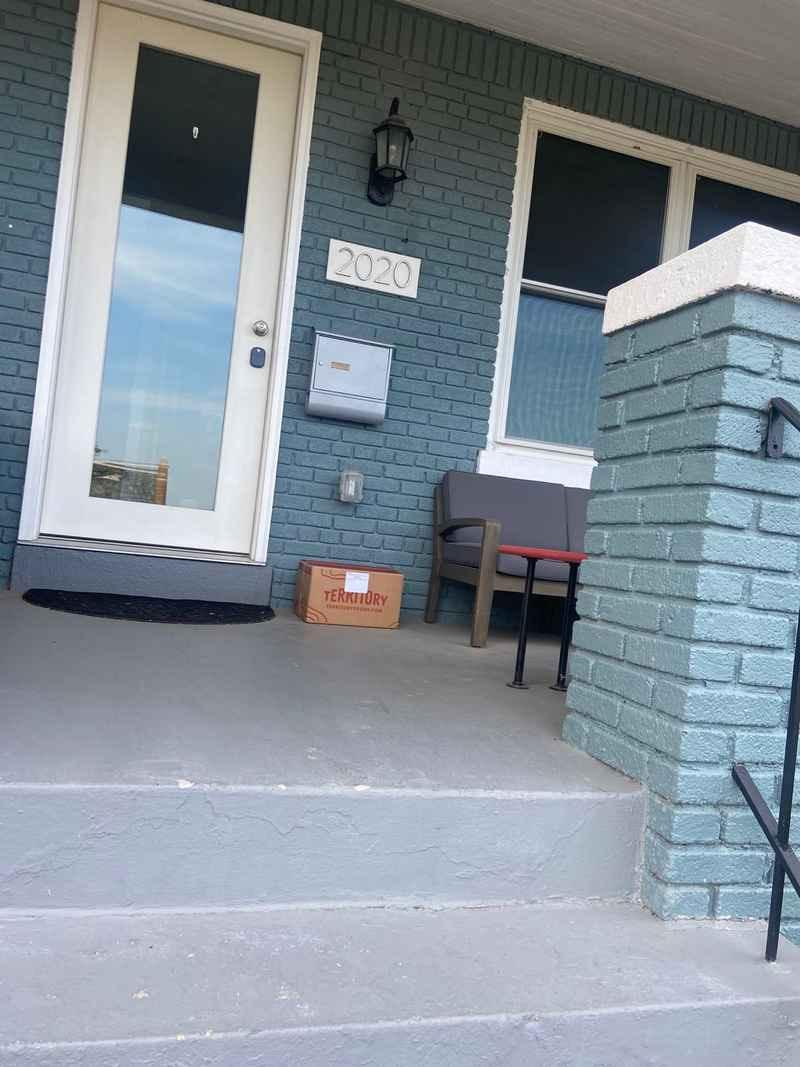package: (286, 556, 410, 634)
